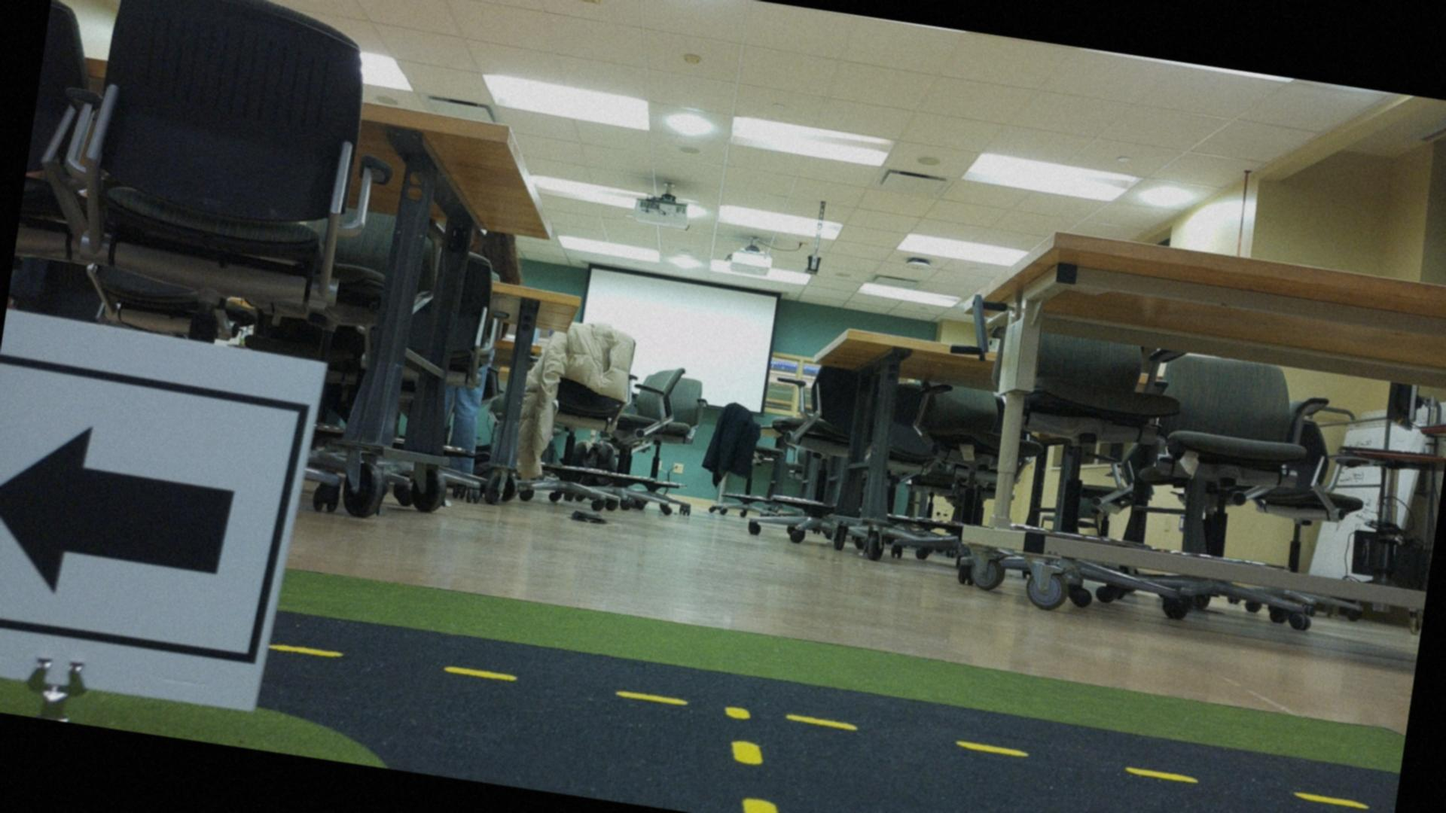turnleft: (0, 315, 316, 715)
yellowline: (292, 644, 1367, 811), (724, 739, 786, 812)
